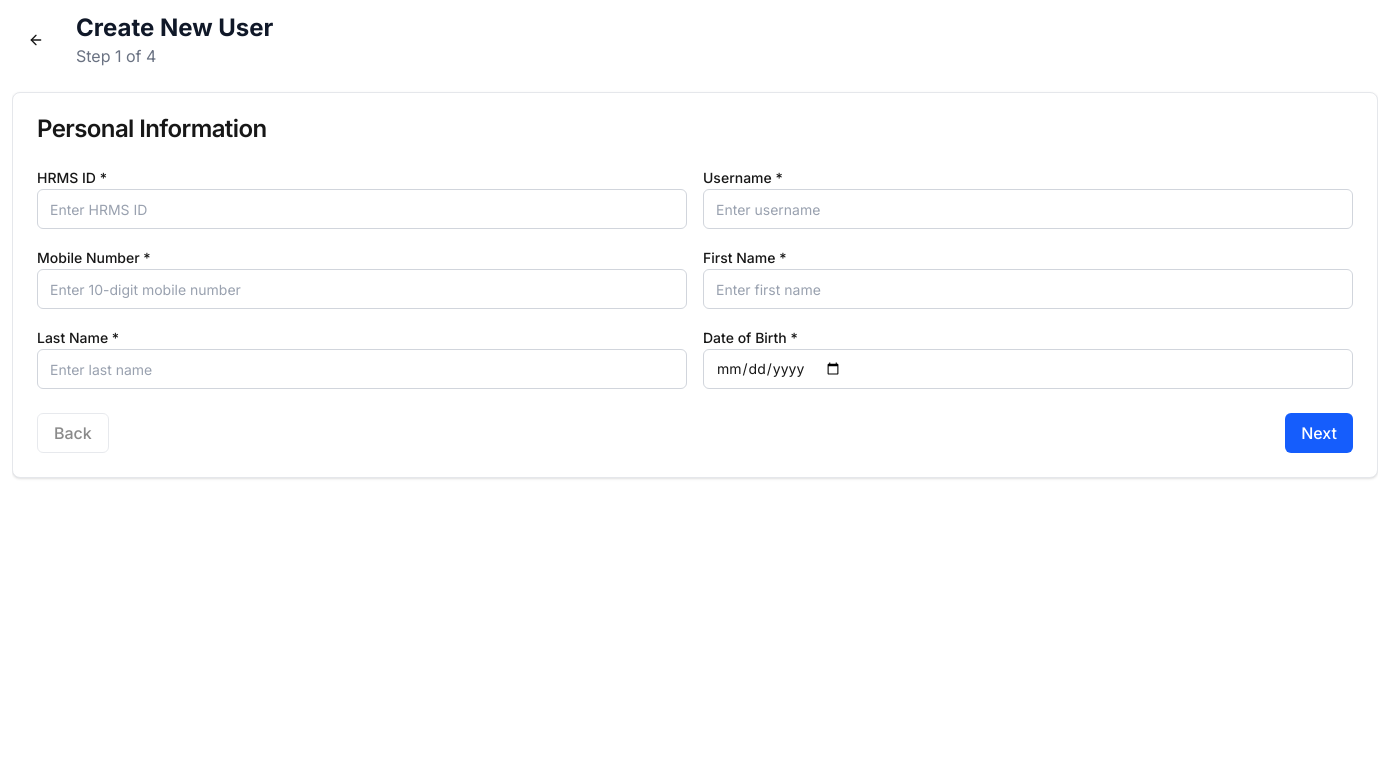
User creation form › shows validation error when required fields are missing
The image size is (1378, 780).
Step 1. Click the button "Next" → (1319, 433), box x1=1285 y1=413 x2=1353 y2=453
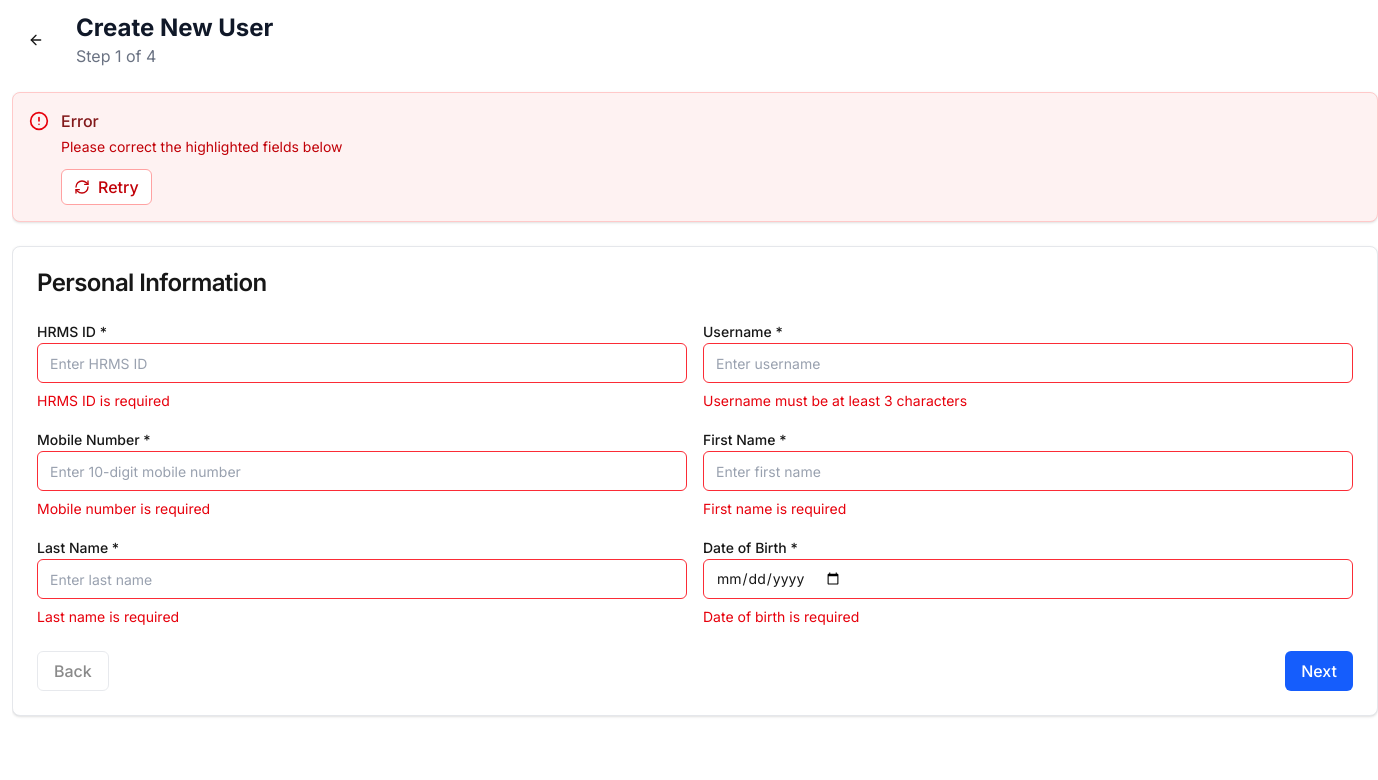
Expected: the text "HRMS ID is required" is shown, x1=37 y1=392 x2=170 y2=409
